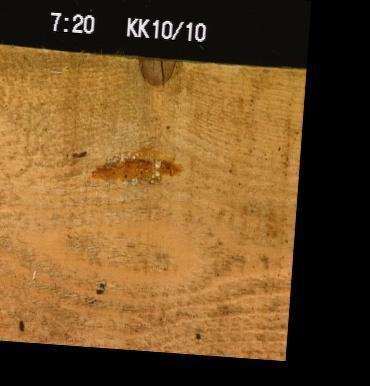edge_knot: (132, 56, 175, 84)
